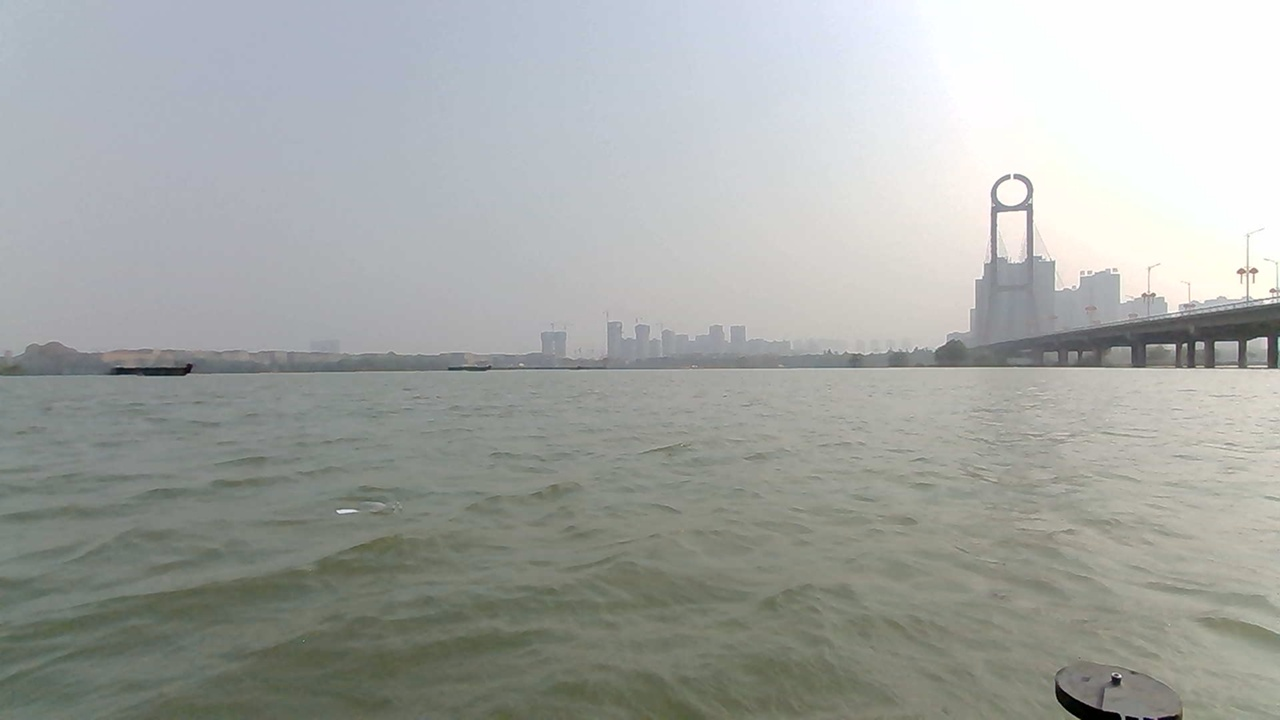bottle: (295, 483, 418, 536)
